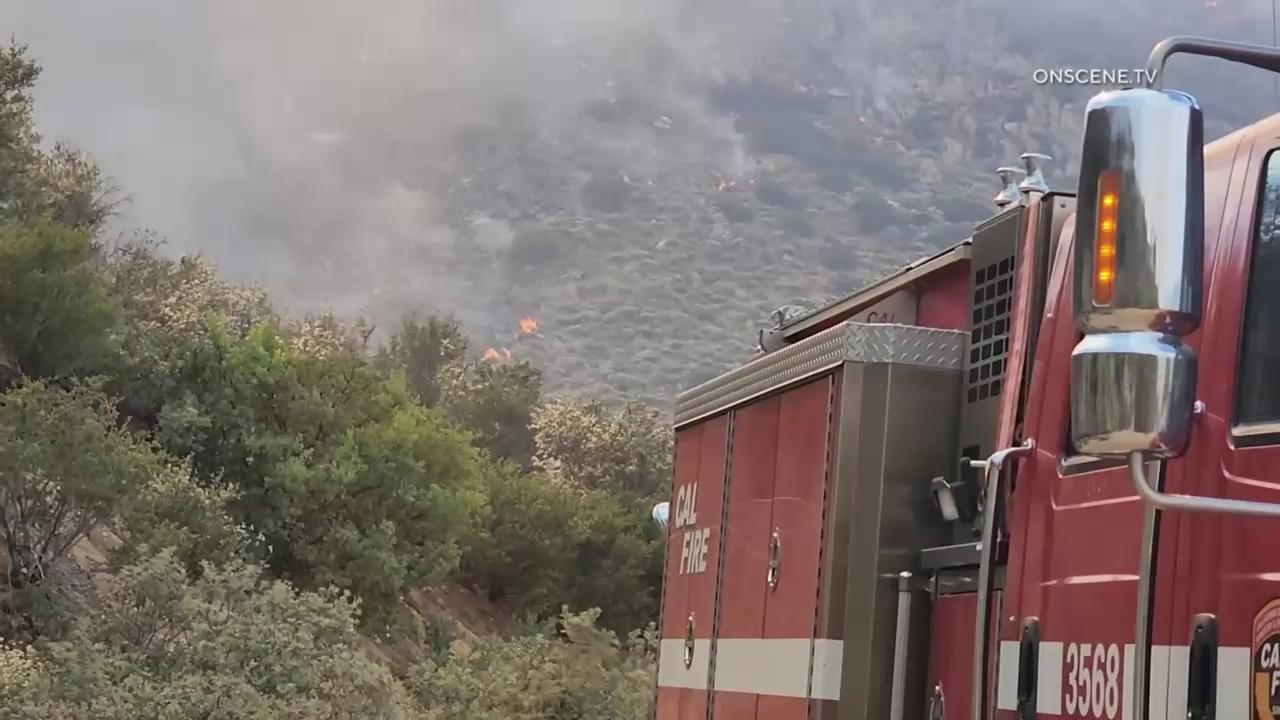fire: (477, 345, 513, 367), (515, 314, 545, 340), (718, 176, 738, 193), (749, 179, 757, 187)
smoke: (0, 0, 1280, 431)
